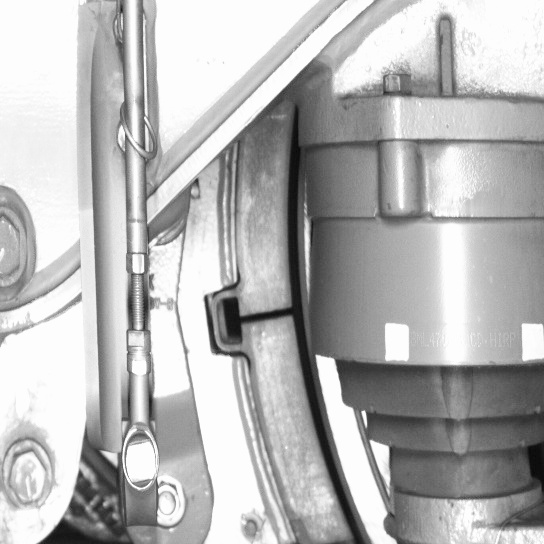KnifeSwitch: (240, 142, 375, 542)
